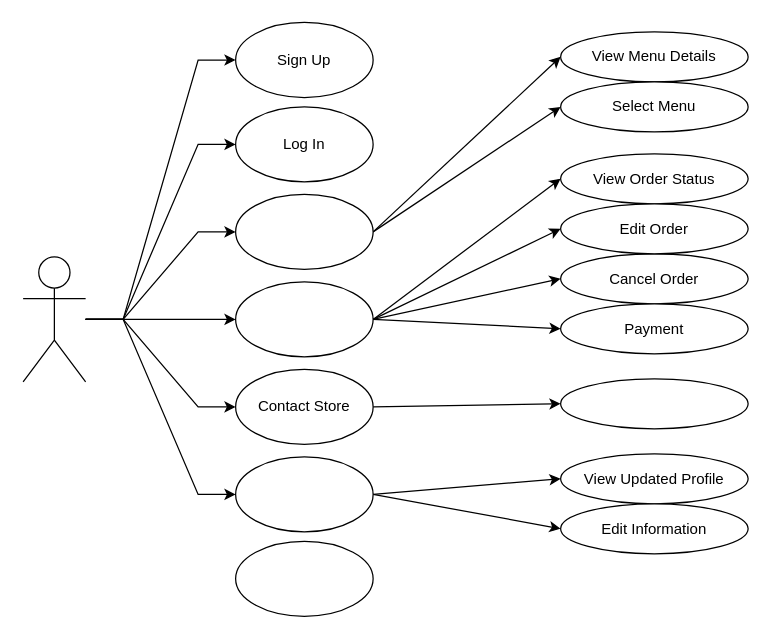
Some shapes in this 770 by 638 pixel diagram are drawn without their labels. The box of each missing label's shape, as (x1, y1, x2, y2) in pixels:
Create Order: (234, 281, 373, 357)
Customer: (22, 256, 86, 382)
Logout: (234, 540, 373, 616)
Send Message: (559, 378, 748, 429)
Update Profile: (234, 456, 373, 532)
View Menu: (234, 193, 373, 269)
